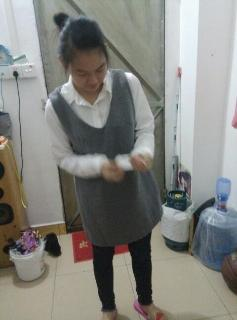long sleeve top: (45, 70, 155, 185)
trousers: (76, 175, 153, 311)
vest: (48, 69, 163, 247)
